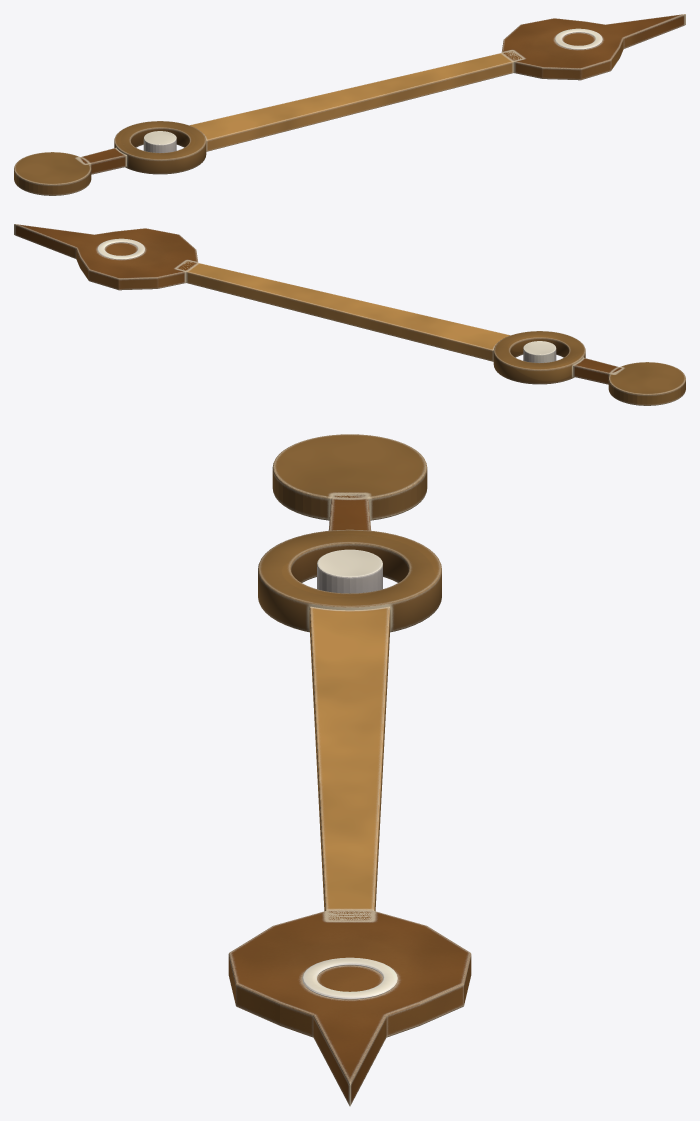
Rendered from CR_Hand.glb.
3 renders of one model, top to bottom at view 1: azimuth 30°, elevation 25°; view 2: azimuth 150°, elevation 25°; view 3: azimuth 270°, elevation 25°, orthographic. The views are drawn at different scales.
Parts seen in each view (by area): view 1: CR_Hand; view 2: CR_Hand; view 3: CR_Hand.
Boxes of the visible parts, x1,y1,x2,y2 form: CR_Hand: [14, 14, 685, 195]; CR_Hand: [14, 224, 685, 405]; CR_Hand: [228, 434, 471, 1106].
Size of the model in its own units: 8.37 by 0.24 by 1.32.
3 materials, 3 textured.
